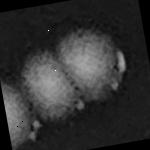colony: (48, 12, 138, 117), (10, 40, 89, 136), (0, 67, 42, 150)
